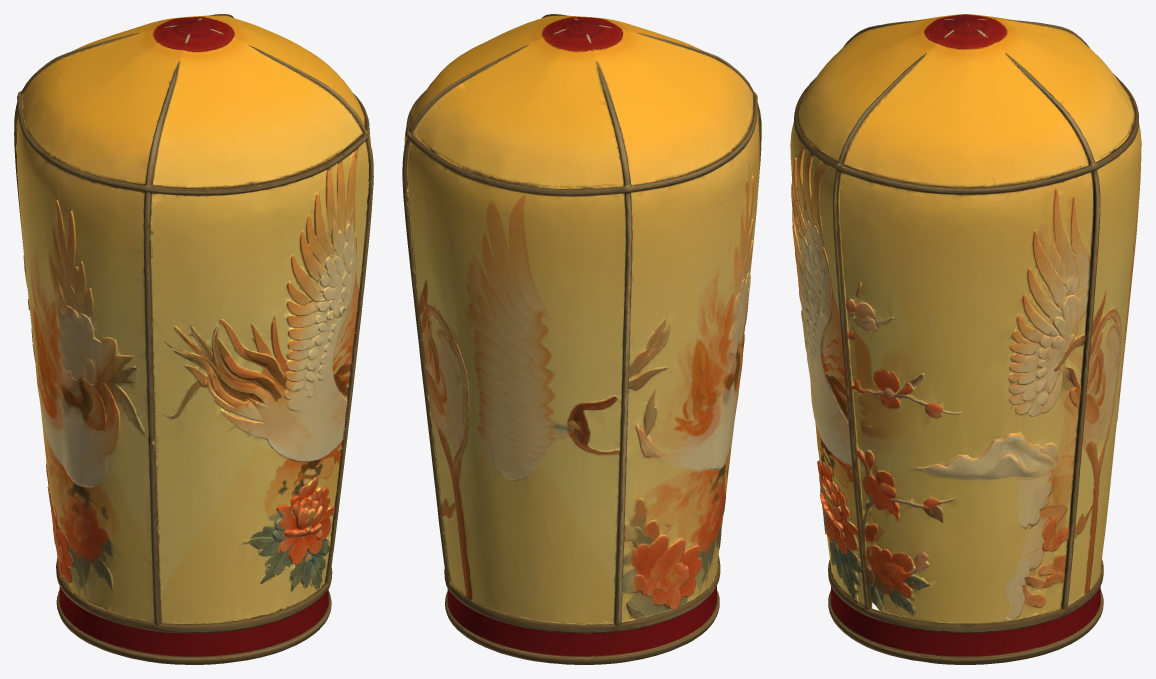
Rendered from crane.glb.
3 views of the same model, side by side, from view 1: azimuth 30°, elevation 25°; view 2: azimuth 150°, elevation 25°; view 3: azimuth 270°, elevation 25° (orthographic).
Bounding box in the file's own units: 1.03 × 1.9 × 1.03.
1 material, 1 textured.
